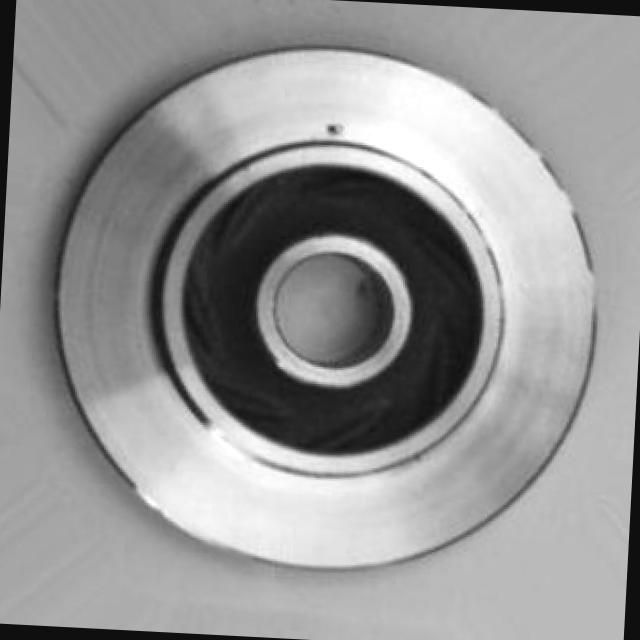Defect: (320, 111, 358, 146)
